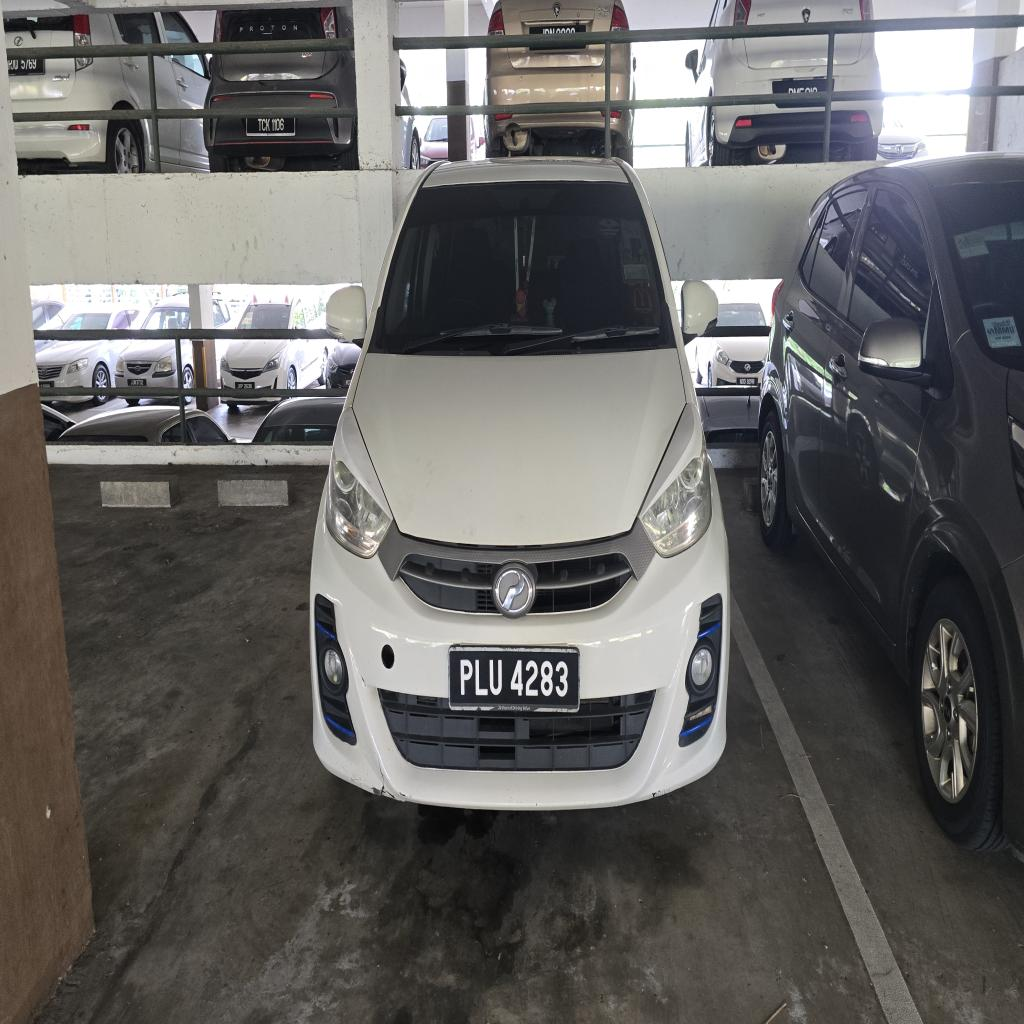car: (310, 159, 729, 808), (205, 51, 358, 171)
car plate: (450, 646, 579, 712), (246, 117, 295, 136)
